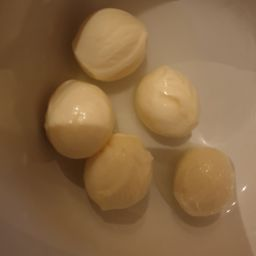Mini Mozzarella Cheese: (33, 6, 243, 229), (71, 134, 158, 233), (21, 73, 115, 159), (61, 5, 157, 80), (170, 144, 240, 233), (132, 65, 205, 139)
